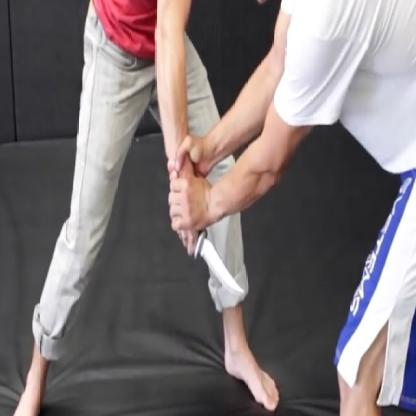knife: (165, 214, 252, 306)
